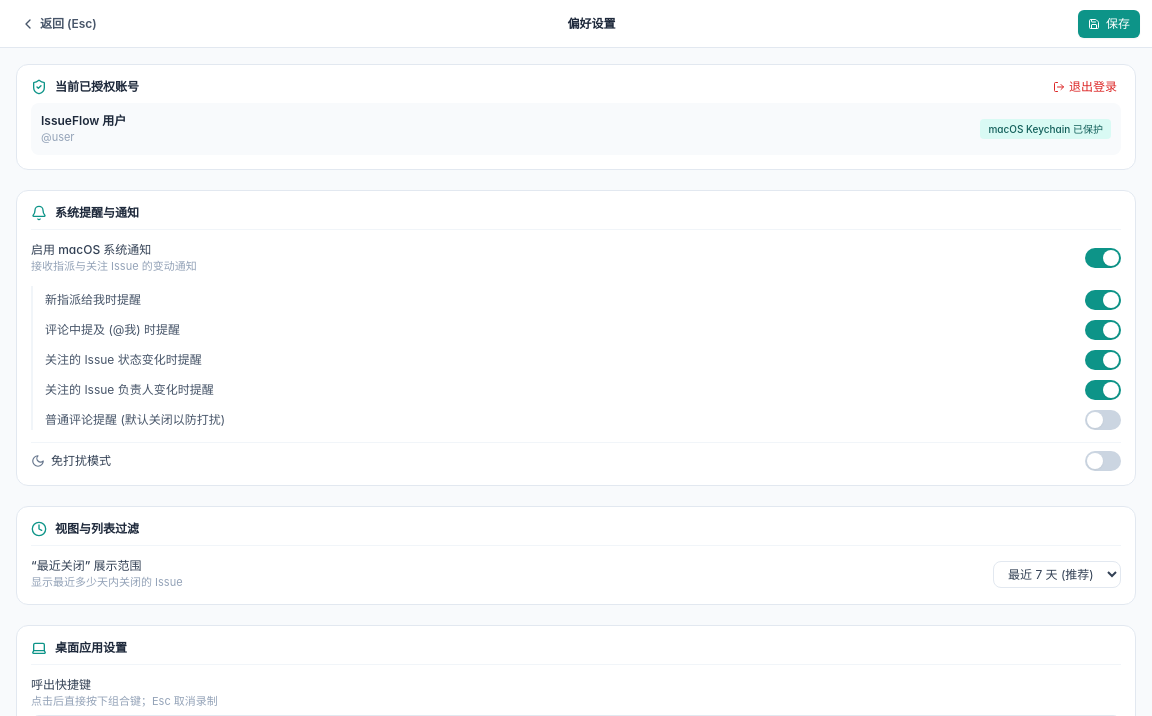
Test case: SettingsPage › stops saving and displays server preference error without updating app config
The image size is (1152, 716).
Expected: the text "启用 macOS 系统通知" is shown, [31,242,151,257]
Click the button "保存". click: {"x": 1109, "y": 24}
box: [1078,10,1140,38]
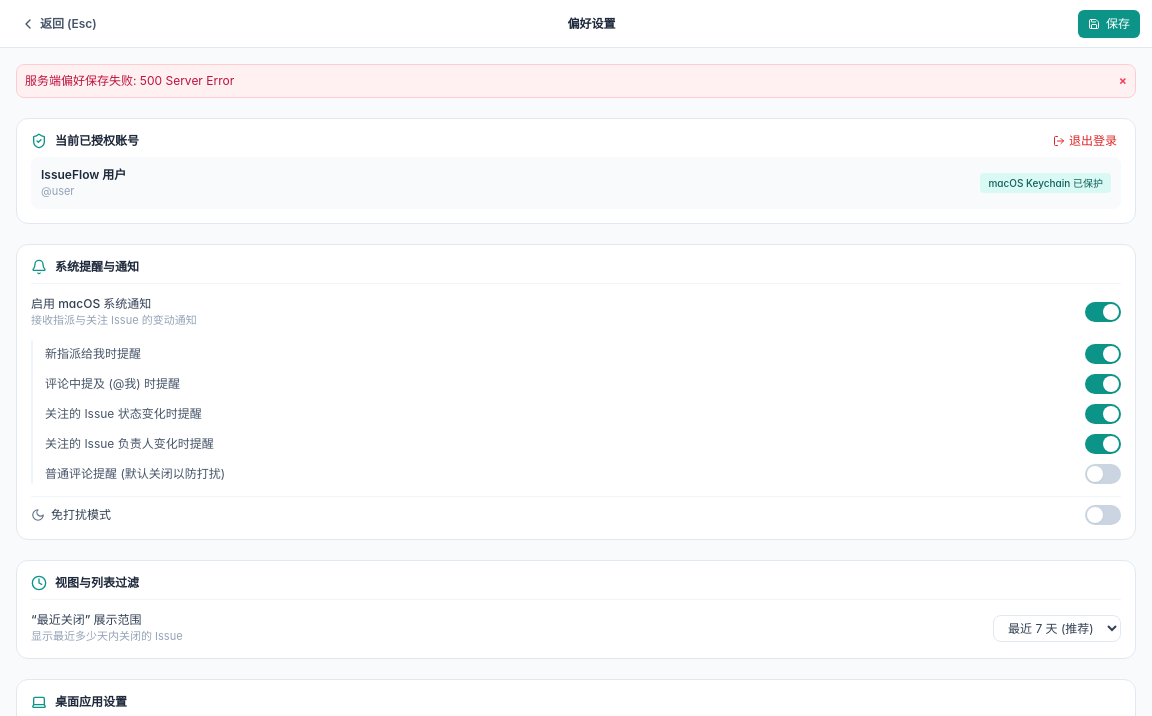
Now the text "服务端偏好保存失败: 500 Server Error" is shown, box [25,73,234,89]
